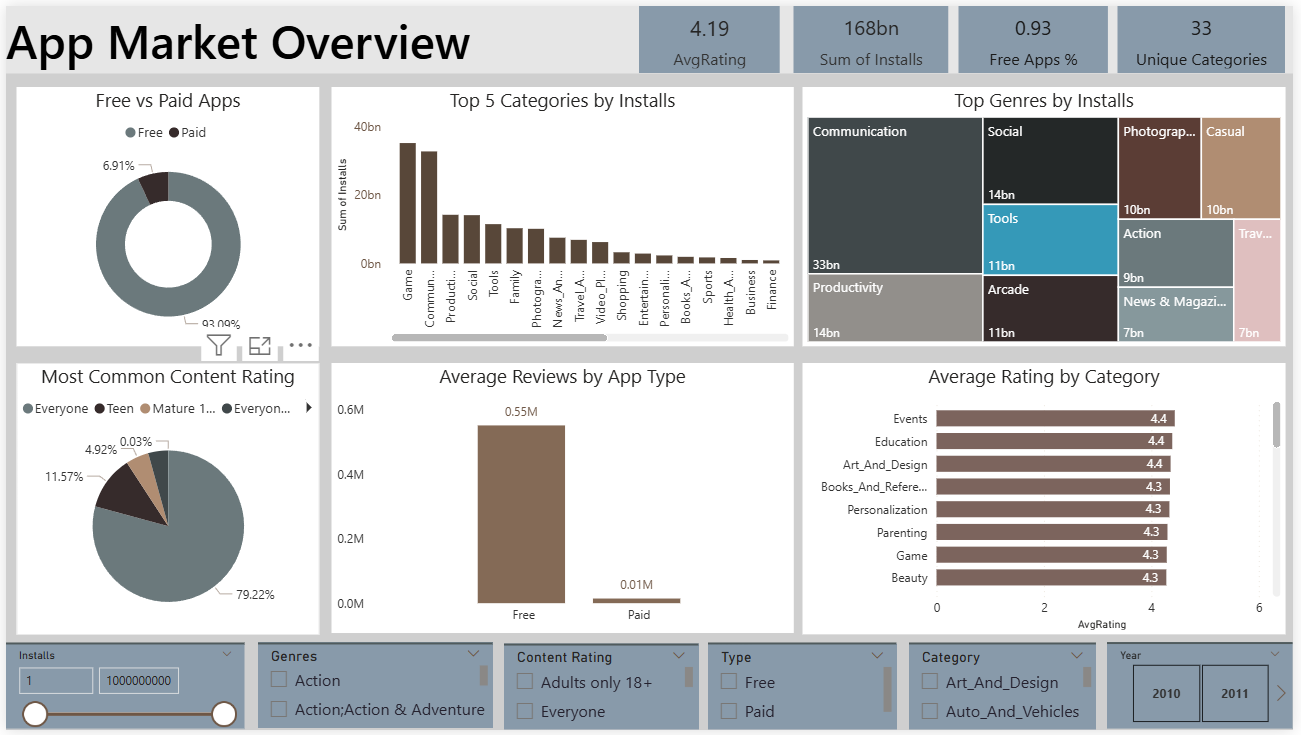

This screenshot's page, from the dashboard's own definition file:
{"tool":"powerbi","page":{"name":"Market view","canvas":[1280,720],"ordinal":0},"visuals":[{"type":"shape","box":[0,0,1280.8,67.1],"z":0},{"type":"slicer","fields":{"Values":["googleplaystore.Last Updated.Variation.Date Hierarchy.Year"]},"box":[1095.8,634.7,184.7,84.7],"z":1000},{"type":"slicer","fields":{"Values":["googleplaystore.Category"]},"box":[898.6,634.7,186.1,84.7],"z":2000},{"type":"slicer","fields":{"Values":["googleplaystore.Type"]},"box":[698.6,634.7,187.5,84.7],"z":3000},{"type":"slicer","fields":{"Values":["googleplaystore.Content Rating"]},"box":[495.9,634.2,193.2,84.9],"z":4000},{"type":"slicer","fields":{"Values":["googleplaystore.Genres"]},"box":[250,633.3,233.3,84.7],"z":5000},{"type":"slicer","fields":{"Values":["googleplaystore.Installs"]},"box":[0,634.7,237.5,84.7],"z":6000},{"type":"shape","box":[1096,623.3,184.7,20],"z":7000},{"type":"shape","box":[898.6,623.6,186.1,20.8],"z":8000},{"type":"shape","box":[698.6,623.6,187.5,20.8],"z":9000},{"type":"shape","box":[496,624.7,193.3,20],"z":10000},{"type":"shape","box":[250,623.6,233.3,20.8],"z":11000},{"type":"shape","box":[0,623.6,237.5,20.8],"z":12000},{"type":"card","fields":{"Values":["googleplaystore.AvgRating"]},"box":[629.2,0,140.3,66.7],"z":13000},{"type":"card","fields":{"Values":["Sum(googleplaystore.Installs)"]},"box":[783.3,0,154.2,66.7],"z":14000},{"type":"card","fields":{"Values":["googleplaystore.Free Apps %"]},"box":[947.2,0,148.6,66.7],"z":15000},{"type":"card","fields":{"Values":["googleplaystore.Unique Categories"]},"box":[1105.6,0,166.7,66.7],"z":16000},{"type":"donutChart","title":"Free vs Paid Apps","fields":{"Y":["CountNonNull(googleplaystore.App)"],"Category":["googleplaystore.Type"]},"box":[10.4,80.6,301.5,258.2],"z":17000},{"type":"pieChart","title":"Most Common Content Rating","fields":{"Category":["googleplaystore.Content Rating"],"Y":["CountNonNull(googleplaystore.App)"]},"box":[10.4,355.2,301.5,270.1],"z":18000},{"type":"barChart","title":"Average Rating by Category","fields":{"Category":["googleplaystore.Category"],"Y":["googleplaystore.AvgRating"]},"box":[792.5,355.2,480.6,270.1],"z":19000},{"type":"treemap","title":"Top Genres by Installs","fields":{"Details":["googleplaystore.Genres"],"Values":["Sum(googleplaystore.Installs)"]},"box":[792.5,80.6,480.6,258.2],"z":20000},{"type":"columnChart","title":"Top 5 Categories by Installs","fields":{"Category":["googleplaystore.Category"],"Y":["Sum(googleplaystore.Installs)"]},"box":[323.9,80.6,459.7,258.2],"z":21000},{"type":"clusteredColumnChart","title":"Average Reviews by App Type","fields":{"Category":["googleplaystore.Type"],"Y":["googleplaystore.AvgReviews"]},"box":[323.9,355.2,459.7,268.7],"z":22000}]}

Visuals, with their boxes in screenshot pixels (x1, y1, x2, y2), scaled from the page's 1280x720 canvas onto the 1301x735 screenshot:
shape: pyautogui.locateOnScreen(0, 0, 1300, 68)
slicer - googleplaystore.Last Updated.Variation.Date Hierarchy.Year: pyautogui.locateOnScreen(1114, 648, 1300, 734)
slicer - googleplaystore.Category: pyautogui.locateOnScreen(913, 648, 1102, 734)
slicer - googleplaystore.Type: pyautogui.locateOnScreen(710, 648, 901, 734)
slicer - googleplaystore.Content Rating: pyautogui.locateOnScreen(504, 647, 700, 734)
slicer - googleplaystore.Genres: pyautogui.locateOnScreen(254, 646, 491, 733)
slicer - googleplaystore.Installs: pyautogui.locateOnScreen(0, 648, 241, 734)
shape: pyautogui.locateOnScreen(1114, 636, 1300, 657)
shape: pyautogui.locateOnScreen(913, 637, 1102, 658)
shape: pyautogui.locateOnScreen(710, 637, 901, 658)
shape: pyautogui.locateOnScreen(504, 638, 701, 658)
shape: pyautogui.locateOnScreen(254, 637, 491, 658)
shape: pyautogui.locateOnScreen(0, 637, 241, 658)
card - googleplaystore.AvgRating: pyautogui.locateOnScreen(640, 0, 782, 68)
card - Sum(googleplaystore.Installs): pyautogui.locateOnScreen(796, 0, 953, 68)
card - googleplaystore.Free Apps %: pyautogui.locateOnScreen(963, 0, 1114, 68)
card - googleplaystore.Unique Categories: pyautogui.locateOnScreen(1124, 0, 1293, 68)
"Free vs Paid Apps" donutChart: pyautogui.locateOnScreen(11, 82, 317, 346)
"Most Common Content Rating" pieChart: pyautogui.locateOnScreen(11, 363, 317, 638)
"Average Rating by Category" barChart: pyautogui.locateOnScreen(806, 363, 1294, 638)
"Top Genres by Installs" treemap: pyautogui.locateOnScreen(806, 82, 1294, 346)
"Top 5 Categories by Installs" columnChart: pyautogui.locateOnScreen(329, 82, 796, 346)
"Average Reviews by App Type" clusteredColumnChart: pyautogui.locateOnScreen(329, 363, 796, 637)
